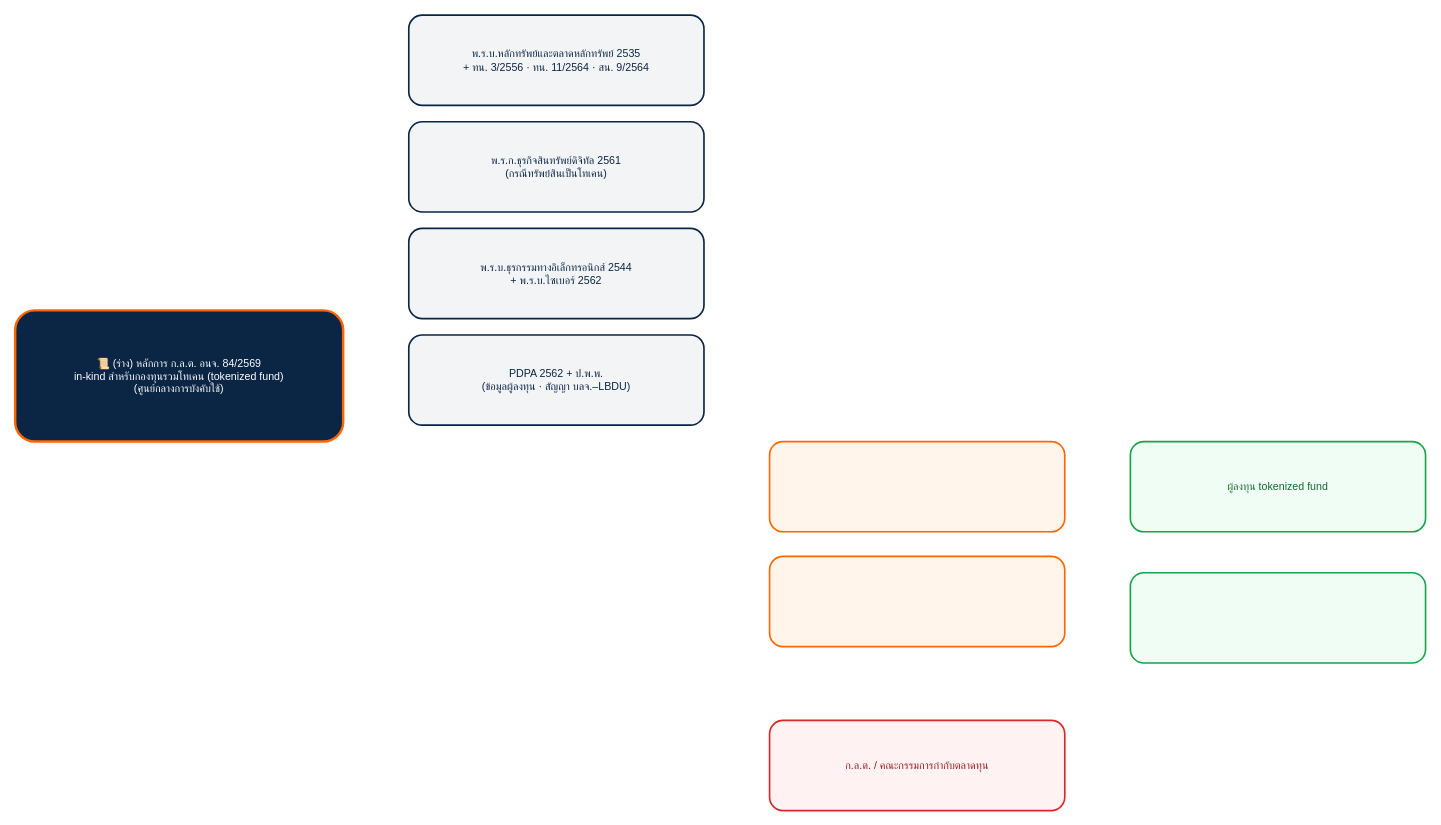
Image size: 1441x825. Some labels were removed from this diagram. Each missing label, with the centre of its shape:
LBDU ผู้ดูแลสภาพคล่อง + ผู้ให้บริการระบบ blockchain/settlement: point (916, 601)
บลจ. (ผู้จัดการ tokenized fund): point (916, 486)
ผู้ลงทุนที่เสี่ยงเสียหายจาก settlement failure: point (1277, 617)
